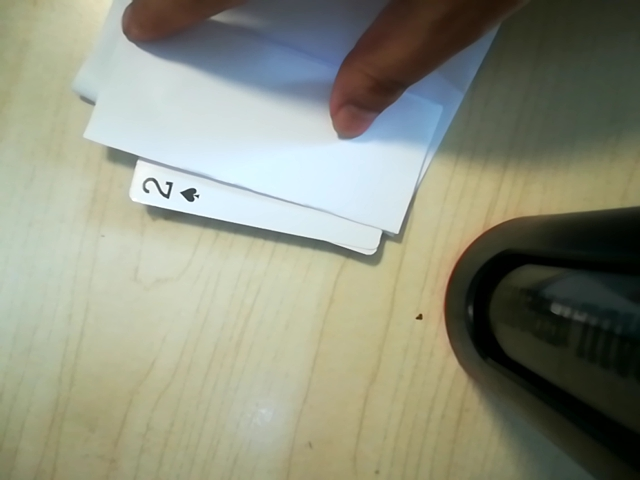ht 2: (133, 155, 205, 208)
